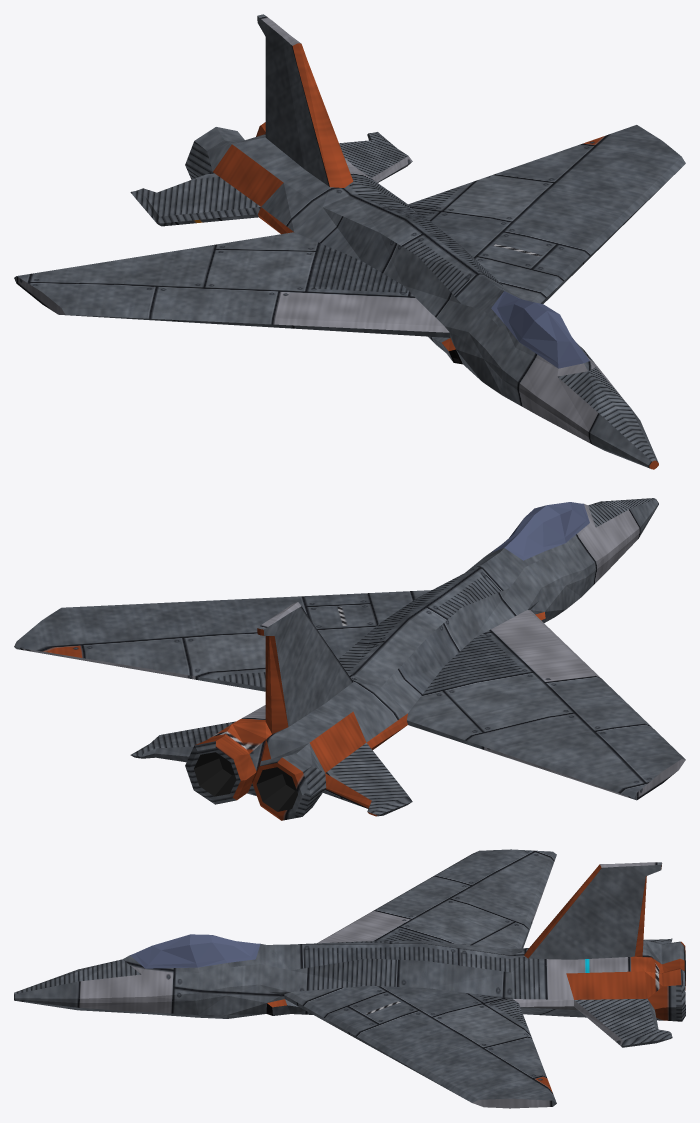
The model's file is Spacechip.obj.
The picture shows the model from 3 angles, top to bottom: view 1: azimuth 30°, elevation 25°; view 2: azimuth 150°, elevation 25°; view 3: azimuth 270°, elevation 25°; orthographic projection. The views are drawn at different scales.
Parts seen in each view (by area): view 1: Jet; view 2: Jet; view 3: Jet.
Part boxes in pixels (x1,y1,x2,y2): Jet: (14,14,685,469); Jet: (14,498,685,820); Jet: (14,849,685,1108).
Bounding box in the file's own units: 1.21 × 0.3369 × 1.38.
